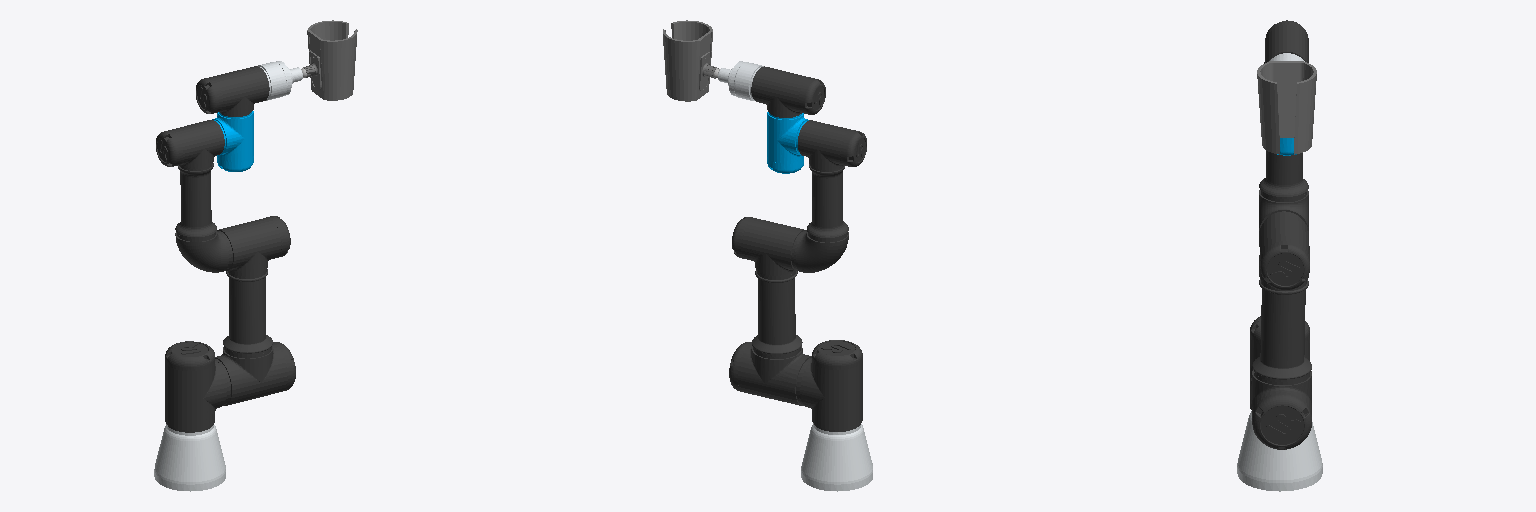
robot.urdf — ur3_con_herramienta:
<?xml version="1.0" encoding="utf-8" ?>
<!-- This URDF was automatically created by SolidWorks to URDF Exporter! Originally created by [author] ([email redacted]) 
     Commit Version: 1.6.0-1-g15f4949  Build Version: 1.6.7594.29634
     For more information, please see http://wiki.ros.org/sw_urdf_exporter -->
<robot name="ur3_con_herramienta">
    <link name="base_link">
        
<inertial>
            <origin xyz="2.64101237535564E-18 9.76134315465968E-18 0.0475762493981301" rpy="0 0 0" />
            <mass value="2.65145043916468" />
            <inertia ixx="0.00437179269564763" ixy="8.43844902541496E-36" ixz="7.22535036455934E-22" iyy="0.00437179269564763" iyz="3.8594564342667E-19" izz="0.00438480872973141" />
        </inertial>

        <visual>
            <origin xyz="0 0 0" rpy="0 0 0" />
            <geometry>
                <mesh filename="package://ur3_con_herramienta/meshes/base_link.STL" />
            </geometry>
            <material name="">
                <color rgba="0.898039215686275 0.917647058823529 0.929411764705882 1" />
            </material>
        </visual>
        <collision>
            <origin xyz="0 0 0" rpy="0 0 0" />
            <geometry>
                <mesh filename="package://ur3_con_herramienta/meshes/base_link.STL" />
            </geometry>
        </collision>
    </link>
    <link name="shoulder1_link">
        
<inertial>
            <origin xyz="0.00514792403286268 0.0637458415037934 -2.32179009735116E-07" rpy="0 0 0" />
            <mass value="0.800701358529581" />
            <inertia ixx="0.00131487870842272" ixy="-1.72221420403911E-05" ixz="1.37252271850374E-08" iyy="0.000954968358643356" iyz="9.79847131675004E-10" izz="0.00141534841474555" />
        </inertial>

        <visual>
            <origin xyz="0 0 0" rpy="0 0 0" />
            <geometry>
                <mesh filename="package://ur3_con_herramienta/meshes/shoulder1_link.STL" />
            </geometry>
            <material name="">
                <color rgba="0.298039215686275 0.298039215686275 0.298039215686275 1" />
            </material>
        </visual>
        <collision>
            <origin xyz="0 0 0" rpy="0 0 0" />
            <geometry>
                <mesh filename="package://ur3_con_herramienta/meshes/shoulder1_link.STL" />
            </geometry>
        </collision>
    </link>
    <joint name="shoulder1_joint" type="continuous">
        <origin xyz="0 0 0.1058" rpy="1.5707963267949 0 0.0183849589678351" />
        <parent link="base_link" />
        <child link="shoulder1_link" />
        <axis xyz="0 1 0" />
    </joint>
    <link name="shoulder2_Link">
        
<inertial>
            <origin xyz="0.113689711007059 0.064919758897963 1.27017223079673E-07" rpy="0 0 0" />
            <mass value="2.79610549136134" />
            <inertia ixx="0.00280381546638843" ixy="-1.27251874671282E-05" ixz="-1.48095522566757E-08" iyy="0.00503444592371733" iyz="-2.55986839461686E-09" izz="0.00570902082553899" />
        </inertial>

        <visual>
            <origin xyz="0 0 0" rpy="0 0 0" />
            <geometry>
                <mesh filename="package://ur3_con_herramienta/meshes/shoulder2_Link.STL" />
            </geometry>
            <material name="">
                <color rgba="0.298039215686275 0.298039215686275 0.298039215686275 1" />
            </material>
        </visual>
        <collision>
            <origin xyz="0 0 0" rpy="0 0 0" />
            <geometry>
                <mesh filename="package://ur3_con_herramienta/meshes/shoulder2_Link.STL" />
            </geometry>
        </collision>
    </link>
    <joint name="shoulder2_joint" type="continuous">
        <origin xyz="0.0553388892120295 0.066 0" rpy="-3.14159265358971 0.0185718779793312 1.5707963267949" />
        <parent link="shoulder1_link" />
        <child link="shoulder2_Link" />
        <axis xyz="0 1 0" />
    </joint>
    <link name="shoulder3_Link">
        
<inertial>
            <origin xyz="0.0372493474620883 -0.115733396945102 1.39835810795269E-08" rpy="0 0 0" />
            <mass value="1.54172457038253" />
            <inertia ixx="0.0021915651639715" ixy="5.89418525085992E-05" ixz="-5.21035861445639E-10" iyy="0.00089862926269953" iyz="-3.81373846770823E-09" izz="0.00231411869604767" />
        </inertial>

        <visual>
            <origin xyz="0 0 0" rpy="0 0 0" />
            <geometry>
                <mesh filename="package://ur3_con_herramienta/meshes/shoulder3_Link.STL" />
            </geometry>
            <material name="">
                <color rgba="0.298039215686275 0.298039215686275 0.298039215686275 1" />
            </material>
        </visual>
        <collision>
            <origin xyz="0 0 0" rpy="0 0 0" />
            <geometry>
                <mesh filename="package://ur3_con_herramienta/meshes/shoulder3_Link.STL" />
            </geometry>
        </collision>
    </link>
    <joint name="shoulder3_joint" type="continuous">
        <origin xyz="0.255 0 0" rpy="3.14084122794701 0 -1.5707963267949" />
        <parent link="shoulder2_Link" />
        <child link="shoulder3_Link" />
        <axis xyz="1 0 0" />
    </joint>
    <link name="shoulder4_Link">
        
<inertial>
            <origin xyz="0.00569315040516876 0.00260315148511425 0.035957041854072" rpy="0 0 0" />
            <mass value="0.30365252171567" />
            <inertia ixx="0.000280146121518899" ixy="-2.01684005428714E-07" ixz="-3.40077770509167E-06" iyy="0.000191315923778503" iyz="-1.27200706541371E-06" izz="0.000259233118901331" />
        </inertial>

        <visual>
            <origin xyz="0 0 0" rpy="0 0 0" />
            <geometry>
                <mesh filename="package://ur3_con_herramienta/meshes/shoulder4_Link.STL" />
            </geometry>
            <material name="">
                <color rgba="0 0.725490196078431 1 1" />
            </material>
        </visual>
        <collision>
            <origin xyz="0 0 0" rpy="0 0 0" />
            <geometry>
                <mesh filename="package://ur3_con_herramienta/meshes/shoulder4_Link.STL" />
            </geometry>
        </collision>
    </link>
    <joint name="shoulder4_joint" type="continuous">
        <origin xyz="-0.00376999800768517 -0.2245 0" rpy="-3.02811430920995 -1.4127718869458 3.02951635397989" />
        <parent link="shoulder3_Link" />
        <child link="shoulder4_Link" />
        <axis xyz="0.156380249592865 0 0.987696925953135" />
    </joint>
    <link name="shoulder5_Link">
        
<inertial>
            <origin xyz="-0.0391252197015427 -0.0018428909930804 7.9941491811647E-09" rpy="0 0 0" />
            <mass value="0.333185460218424" />
            <inertia ixx="0.000330241453545441" ixy="-4.05903181066887E-06" ixz="3.42280898184591E-09" iyy="0.000207362986969204" iyz="-1.03514483361373E-10" izz="0.00035268676518792" />
        </inertial>

        <visual>
            <origin xyz="0 0 0" rpy="0 0 0" />
            <geometry>
                <mesh filename="package://ur3_con_herramienta/meshes/shoulder5_Link.STL" />
            </geometry>
            <material name="">
                <color rgba="0.298039215686275 0.298039215686275 0.298039215686275 1" />
            </material>
        </visual>
        <collision>
            <origin xyz="0 0 0" rpy="0 0 0" />
            <geometry>
                <mesh filename="package://ur3_con_herramienta/meshes/shoulder5_Link.STL" />
            </geometry>
        </collision>
    </link>
    <joint name="shoulder5_joint" type="continuous">
        <origin xyz="0.00631637229775837 -0.0407409448596764 0.0398941779289388" rpy="-1.39538662615873 0 1.5707963267949" />
        <parent link="shoulder4_Link" />
        <child link="shoulder5_Link" />
        <axis xyz="1 0 0" />
    </joint>
    <link name="terminal_Link">
        
<inertial>
            <origin xyz="0.0130784500708882 -0.128519755952518 0.0737931769663437" rpy="0 0 0" />
            <mass value="0.357795123477692" />
            <inertia ixx="0.000127210617140741" ixy="-8.65220958236335E-09" ixz="8.89368379102214E-06" iyy="0.00012581198880417" iyz="-4.88187842902285E-08" izz="0.000175815645279782" />
        </inertial>

        <visual>
            <origin xyz="0 0 0" rpy="0 0 0" />
            <geometry>
                <mesh filename="package://ur3_con_herramienta/meshes/terminal_Link.STL" />
            </geometry>
            <material name="">
                <color rgba="0.894117647058823 0.913725490196078 0.929411764705882 1" />
            </material>
        </visual>
        <collision>
            <origin xyz="0 0 0" rpy="0 0 0" />
            <geometry>
                <mesh filename="package://ur3_con_herramienta/meshes/terminal_Link.STL" />
            </geometry>
        </collision>
    </link>
    <joint name="terminal_joint" type="continuous">
        <origin xyz="0.0857409448596783 0 0" rpy="0 1.39538662615873 -1.5707963267949" />
        <parent link="shoulder5_Link" />
        <child link="terminal_Link" />
        <axis xyz="0.174511566059324 0 0.984655124046751" />
    </joint>
    <link name="ball_Link">
        
<inertial>
            <origin xyz="0.00899999470000001 -3.19390675365683E-09 -0.000343936792167598" rpy="0 0 0" />
            <mass value="0.00284240213484782" />
            <inertia ixx="9.28699159227044E-08" ixy="3.23116958049918E-24" ixz="-1.00145846375795E-23" iyy="9.2869262729827E-08" iyz="6.1589008193398E-14" izz="9.81451961419863E-08" />
        </inertial>

        <visual>
            <origin xyz="0 0 0" rpy="0 0 0" />
            <geometry>
                <mesh filename="package://ur3_con_herramienta/meshes/ball_Link.STL" />
            </geometry>
            <material name="">
                <color rgba="0.749019607843137 0.749019607843137 0.749019607843137 1" />
            </material>
        </visual>
        <collision>
            <origin xyz="0 0 0" rpy="0 0 0" />
            <geometry>
                <mesh filename="package://ur3_con_herramienta/meshes/ball_Link.STL" />
            </geometry>
        </collision>
    </link>
    <joint name="ball_joint" type="continuous">
        <origin xyz="0.0247806423804241 -0.1195000053 0.139821027614638" rpy="2.96618295295362 0 -1.5707963267949" />
        <parent link="terminal_Link" />
        <child link="ball_Link" />
        <axis xyz="1 0 0" />
    </joint>
    <link name="munequera_Link">
        
<inertial>
            <origin xyz="0.00437746240803183 -0.0526049977106585 3.45283238901636E-07" rpy="0 0 0" />
            <mass value="0.14135587182695" />
            <inertia ixx="0.000182244968064674" ixy="7.87072289176979E-07" ixz="-1.47768511671227E-10" iyy="0.000272489357635988" iyz="-5.16939094253985E-10" izz="0.000231183692827832" />
        </inertial>

        <visual>
            <origin xyz="0 0 0" rpy="0 0 0" />
            <geometry>
                <mesh filename="package://ur3_con_herramienta/meshes/munequera_Link.STL" />
            </geometry>
            <material name="">
                <color rgba="0.501960784313725 0.501960784313725 0.501960784313725 1" />
            </material>
        </visual>
        <collision>
            <origin xyz="0 0 0" rpy="0 0 0" />
            <geometry>
                <mesh filename="package://ur3_con_herramienta/meshes/munequera_Link.STL" />
            </geometry>
        </collision>
    </link>
    <joint name="munequera_joint" type="continuous">
        <origin xyz="0.01 0 0" rpy="1.5707963267949 -0.0746207149434425 0" />
        <parent link="ball_Link" />
        <child link="munequera_Link" />
        <axis xyz="0 0 1" />
    </joint>
    
<transmission name="trans_shoulder1_joint">
        <type>transmission_interface/SimpleTransmission</type>
        <joint name="shoulder1_joint">
            <hardwareInterface>hardware_interface/EffortJointInterface</hardwareInterface>
        </joint>
        <actuator name="shoulder1_joint_motor">
            <hardwareInterface>hardware_interface/EffortJointInterface</hardwareInterface>
            <mechanicalReduction>1</mechanicalReduction>
        </actuator>
    </transmission>
    <transmission name="trans_shoulder2_joint">
        <type>transmission_interface/SimpleTransmission</type>
        <joint name="shoulder2_joint">
            <hardwareInterface>hardware_interface/EffortJointInterface</hardwareInterface>
        </joint>
        <actuator name="shoulder2_joint_motor">
            <hardwareInterface>hardware_interface/EffortJointInterface</hardwareInterface>
            <mechanicalReduction>1</mechanicalReduction>
        </actuator>
    </transmission>
    <transmission name="trans_shoulder3_joint">
        <type>transmission_interface/SimpleTransmission</type>
        <joint name="shoulder3_joint">
            <hardwareInterface>hardware_interface/EffortJointInterface</hardwareInterface>
        </joint>
        <actuator name="shoulder3_joint_motor">
            <hardwareInterface>hardware_interface/EffortJointInterface</hardwareInterface>
            <mechanicalReduction>1</mechanicalReduction>
        </actuator>
    </transmission>
    <transmission name="trans_shoulder4_joint">
        <type>transmission_interface/SimpleTransmission</type>
        <joint name="shoulder4_joint">
            <hardwareInterface>hardware_interface/EffortJointInterface</hardwareInterface>
        </joint>
        <actuator name="shoulder4_joint_motor">
            <hardwareInterface>hardware_interface/EffortJointInterface</hardwareInterface>
            <mechanicalReduction>1</mechanicalReduction>
        </actuator>
    </transmission>
    <transmission name="trans_shoulder5_joint">
        <type>transmission_interface/SimpleTransmission</type>
        <joint name="shoulder5_joint">
            <hardwareInterface>hardware_interface/EffortJointInterface</hardwareInterface>
        </joint>
        <actuator name="shoulder5_joint_motor">
            <hardwareInterface>hardware_interface/EffortJointInterface</hardwareInterface>
            <mechanicalReduction>1</mechanicalReduction>
        </actuator>
    </transmission>
    <transmission name="trans_terminal_joint">
        <type>transmission_interface/SimpleTransmission</type>
        <joint name="terminal_joint">
            <hardwareInterface>hardware_interface/EffortJointInterface</hardwareInterface>
        </joint>
        <actuator name="terminal_joint_motor">
            <hardwareInterface>hardware_interface/EffortJointInterface</hardwareInterface>
            <mechanicalReduction>1</mechanicalReduction>
        </actuator>
    </transmission>
    <transmission name="trans_ball_joint">
        <type>transmission_interface/SimpleTransmission</type>
        <joint name="ball_joint">
            <hardwareInterface>hardware_interface/EffortJointInterface</hardwareInterface>
        </joint>
        <actuator name="ball_joint_motor">
            <hardwareInterface>hardware_interface/EffortJointInterface</hardwareInterface>
            <mechanicalReduction>1</mechanicalReduction>
        </actuator>
    </transmission>
    <transmission name="trans_munequera_joint">
        <type>transmission_interface/SimpleTransmission</type>
        <joint name="munequera_joint">
            <hardwareInterface>hardware_interface/EffortJointInterface</hardwareInterface>
        </joint>
        <actuator name="munequera_joint_motor">
            <hardwareInterface>hardware_interface/EffortJointInterface</hardwareInterface>
            <mechanicalReduction>1</mechanicalReduction>
        </actuator>
    </transmission>
    <gazebo>
        <plugin name="gazebo_ros_control" filename="libgazebo_ros_control.so">
            <robotNamespace>/</robotNamespace>
        </plugin>
    </gazebo>
</robot>

--- Facts derived from the render (not from the file) ---
Views: 3 orthographic renders of the robot side by side, from view 1: azimuth 30°, elevation 25°; view 2: azimuth 150°, elevation 25°; view 3: azimuth 270°, elevation 25°.
Robot: ur3_con_herramienta — 9 links, 8 joints (8 continuous); root link base_link; default pose: all joints at 0.
Visible links, largest first — view 1: shoulder2_Link, shoulder3_Link, shoulder1_link, base_link, munequera_Link, shoulder5_Link, shoulder4_Link, terminal_Link; view 2: shoulder2_Link, shoulder3_Link, shoulder1_link, base_link, munequera_Link, shoulder5_Link, shoulder4_Link, terminal_Link; view 3: shoulder2_Link, munequera_Link, base_link, shoulder3_Link, shoulder5_Link, shoulder1_link.
Boxes of the visible links, box(x1,y1,x2,y2) form: shoulder2_Link: box(215, 216, 295, 405); shoulder3_Link: box(156, 120, 230, 272); shoulder1_link: box(165, 341, 228, 432); base_link: box(154, 424, 225, 491); munequera_Link: box(303, 20, 357, 100); shoulder5_Link: box(196, 66, 269, 116); shoulder4_Link: box(212, 111, 253, 171); terminal_Link: box(258, 61, 302, 100); shoulder2_Link: box(729, 217, 811, 405); shoulder3_Link: box(794, 120, 866, 272); shoulder1_link: box(798, 340, 862, 431); base_link: box(801, 423, 872, 491); munequera_Link: box(663, 20, 718, 101); shoulder5_Link: box(751, 66, 825, 117); shoulder4_Link: box(767, 112, 808, 173); terminal_Link: box(718, 61, 763, 100); shoulder2_Link: box(1251, 213, 1311, 449); munequera_Link: box(1257, 61, 1316, 154); base_link: box(1237, 411, 1322, 491); shoulder3_Link: box(1259, 62, 1308, 230); shoulder5_Link: box(1265, 20, 1308, 62); shoulder1_link: box(1250, 316, 1309, 409).
Size in the robot's own frame: 0.4057 by 0.128 by 0.8034 metres.
9 mesh visuals loaded from 9 distinct referenced files (9 binary STL).